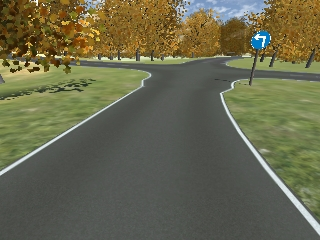left: (250, 31, 272, 49)
